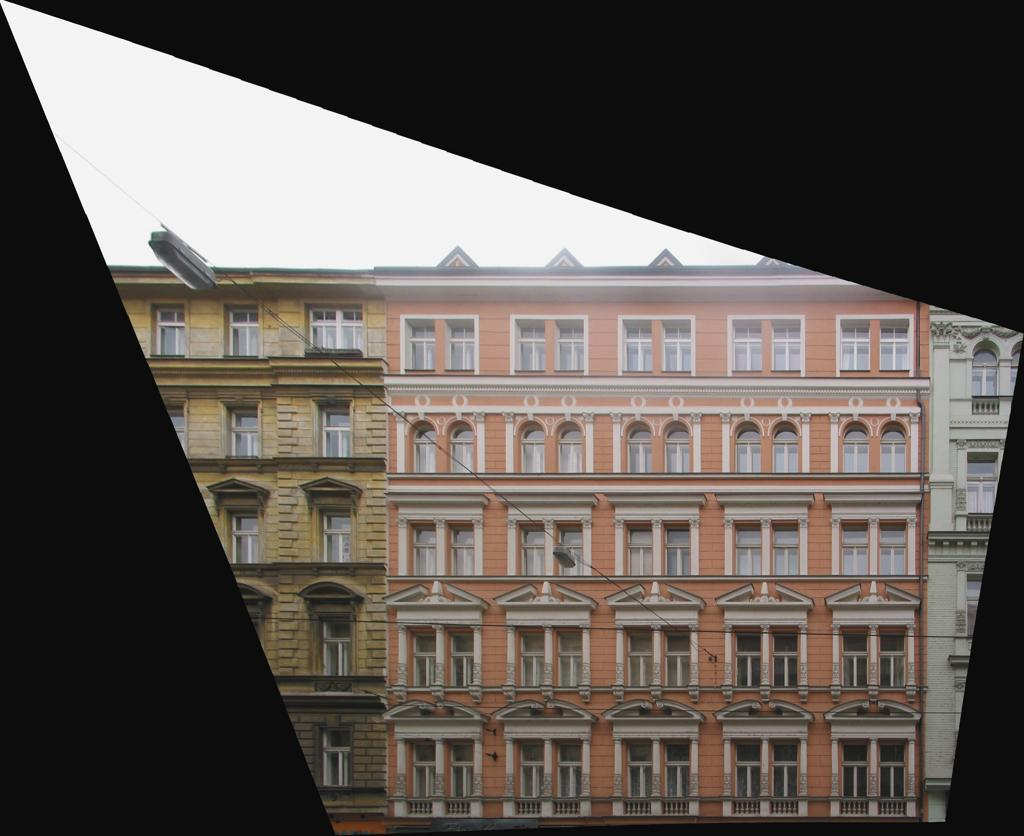window: (304, 303, 362, 354), (968, 452, 999, 514), (319, 617, 351, 676), (224, 304, 259, 357), (152, 303, 185, 357), (320, 727, 350, 785), (227, 407, 259, 459), (227, 510, 259, 562), (318, 405, 349, 457), (319, 510, 350, 562), (972, 340, 1000, 397), (517, 741, 544, 798), (409, 741, 436, 798), (622, 320, 652, 371), (516, 320, 546, 371), (879, 742, 906, 797), (734, 631, 761, 686), (733, 320, 762, 371), (662, 320, 691, 371), (405, 319, 434, 370), (447, 632, 474, 686), (880, 630, 906, 686), (842, 630, 868, 686), (556, 631, 582, 687), (555, 741, 581, 797), (448, 741, 474, 797), (880, 320, 909, 370), (841, 320, 870, 370), (771, 320, 800, 370), (555, 320, 584, 370), (445, 320, 474, 370), (842, 742, 868, 797), (772, 742, 798, 797), (772, 631, 798, 686), (518, 631, 544, 686), (410, 631, 436, 686), (772, 523, 799, 575), (880, 523, 907, 575), (880, 421, 907, 473), (518, 421, 545, 473), (446, 421, 473, 473), (409, 421, 436, 473), (556, 523, 583, 575), (626, 523, 653, 575), (627, 631, 652, 687), (627, 741, 652, 797), (625, 421, 652, 472), (555, 422, 582, 473), (735, 741, 760, 796), (664, 742, 689, 797), (735, 523, 761, 575), (842, 523, 868, 575), (843, 421, 869, 473), (772, 421, 798, 473), (663, 421, 689, 473), (410, 523, 436, 575), (448, 523, 474, 575), (519, 523, 545, 575), (664, 523, 690, 575), (665, 631, 689, 687), (735, 422, 761, 473)
